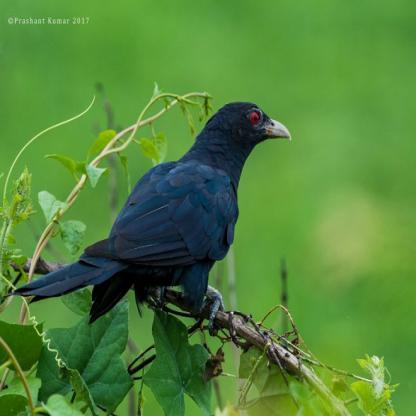Burung: (2, 101, 290, 336)
